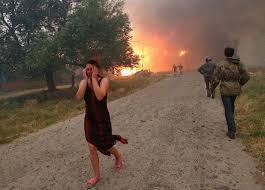fire: (114, 30, 187, 76)
